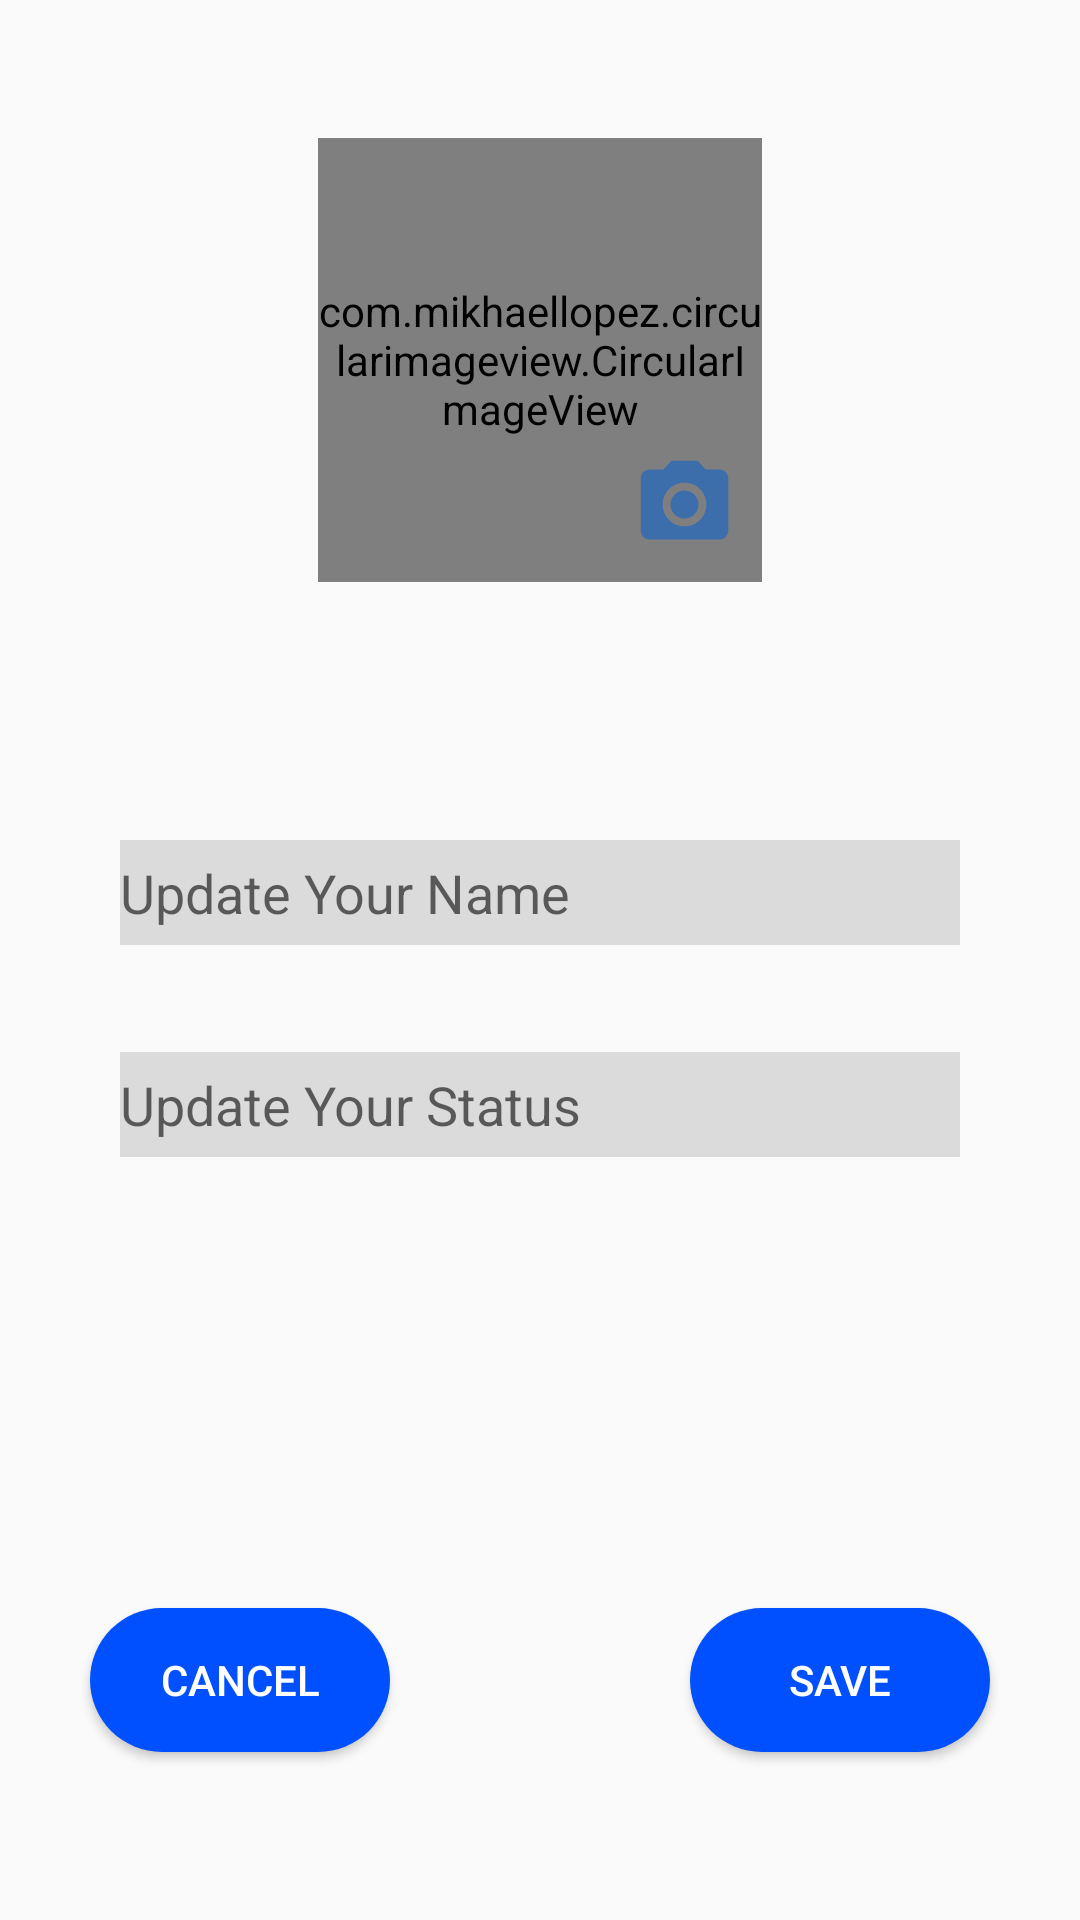

Named icons in this screenshot (1080×1920) and their centers, (x=x, y=y):
camera: (x=684, y=500)
